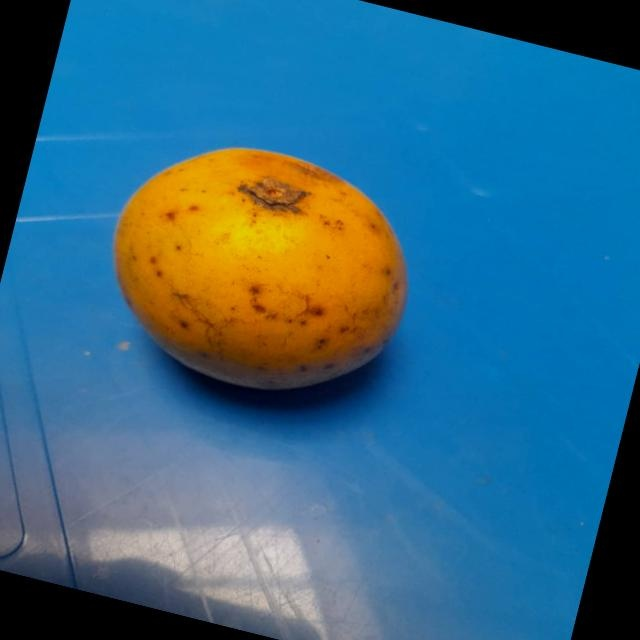agrume: (75, 110, 445, 434)
